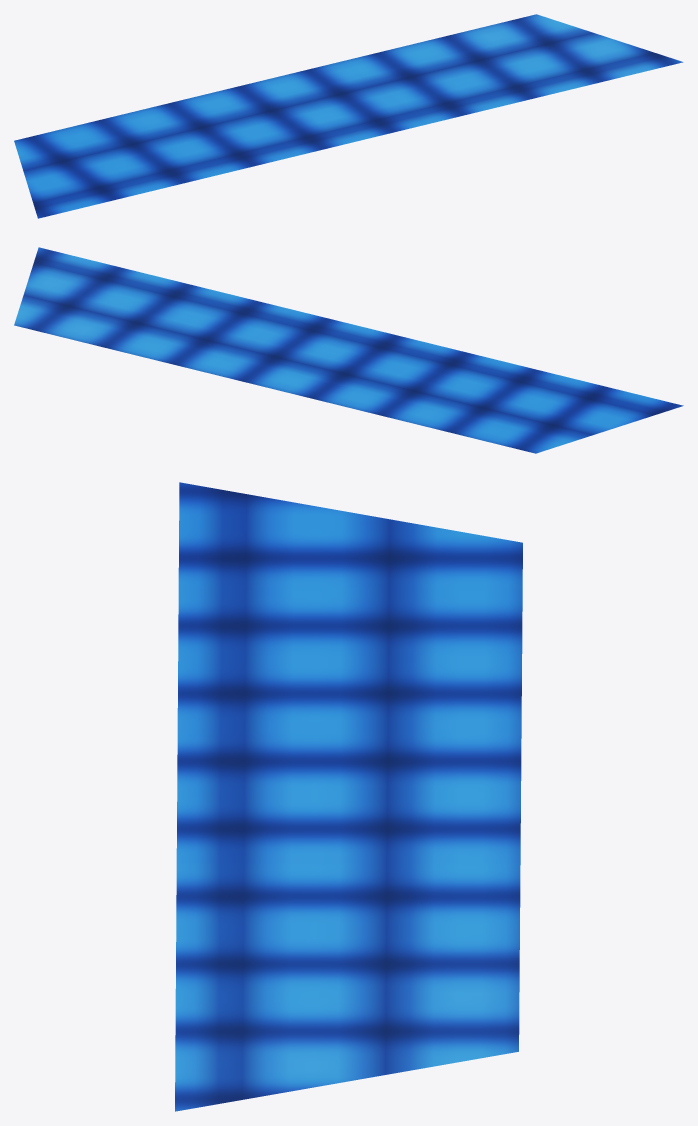
File: ARC0610032.fbx
The picture shows the model from 3 angles, top to bottom: view 1: azimuth 30°, elevation 25°; view 2: azimuth 150°, elevation 25°; view 3: azimuth 270°, elevation 25°; orthographic projection. The views are drawn at different scales.
Parts seen in each view (by area): view 1: smARC0610032; view 2: smARC0610032; view 3: smARC0610032.
Boxes of the visible parts, <box> form: smARC0610032: <box>14,14,683,218</box>; smARC0610032: <box>14,247,683,453</box>; smARC0610032: <box>175,482,522,1111</box>.
Bounding box in the file's own units: 3607 × 0.000854 × 843.
1 material, 1 textured.
